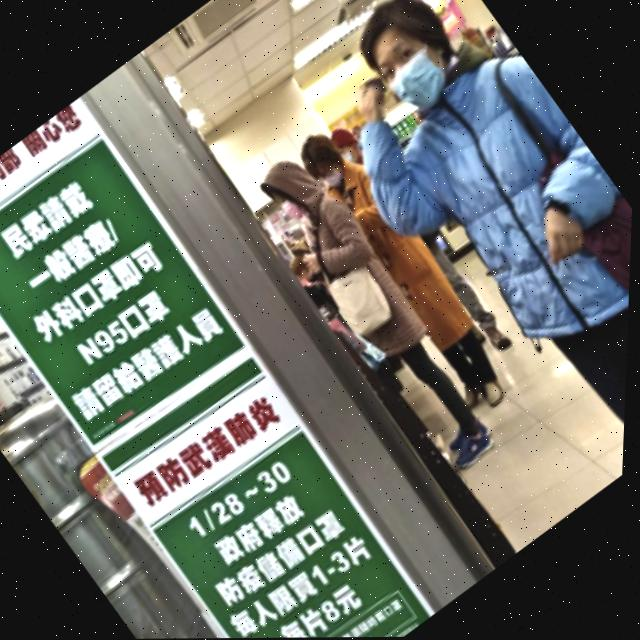Mask: (352, 5, 483, 130), (265, 169, 329, 235), (302, 142, 354, 195)
